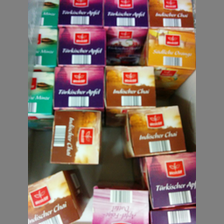tea: (139, 29, 195, 96), (121, 106, 187, 157), (30, 168, 89, 224), (48, 110, 101, 165), (106, 64, 155, 123), (104, 1, 149, 65), (54, 67, 104, 109)
